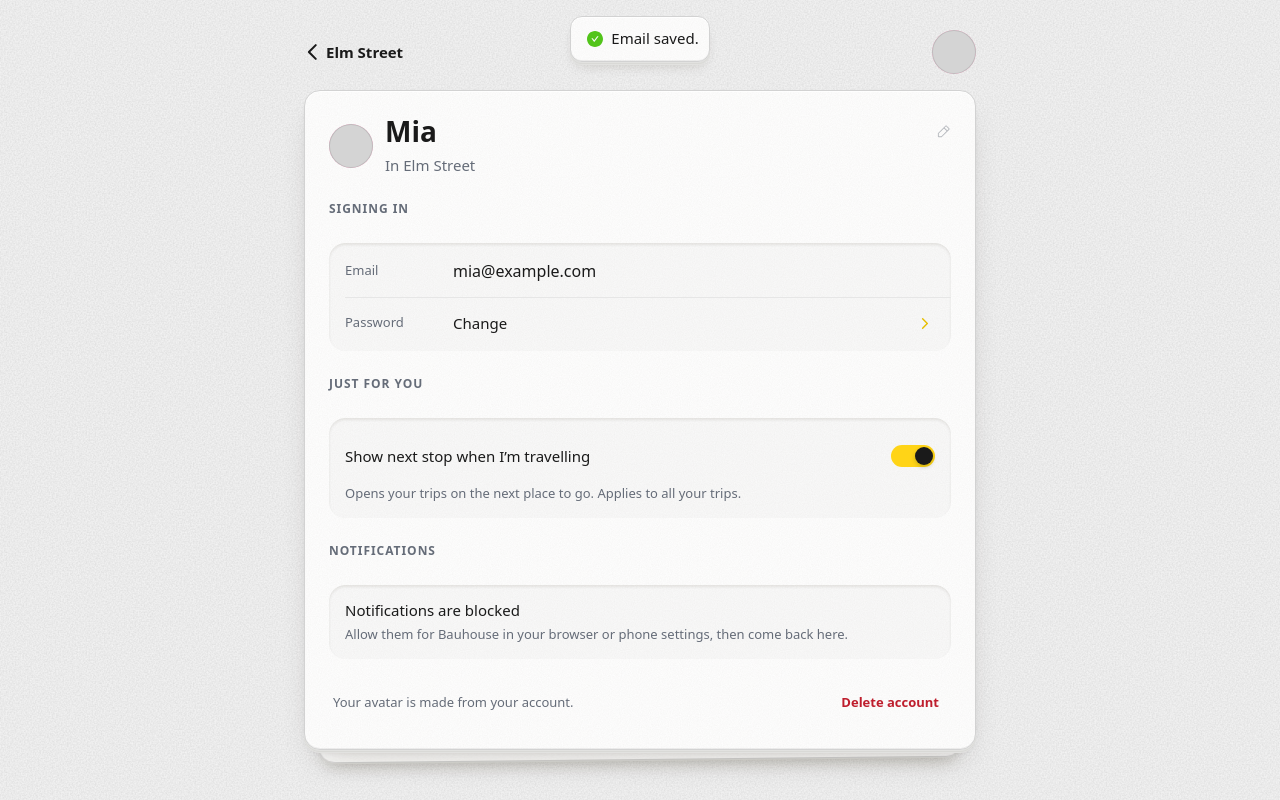
Test: Account settings › says when an email is taken
The width and height of the screenshot is (1280, 800).
Replace the text in the field named "Email" with "sam@example.com": (694, 271) [453,259,935,283]
Then press Enter
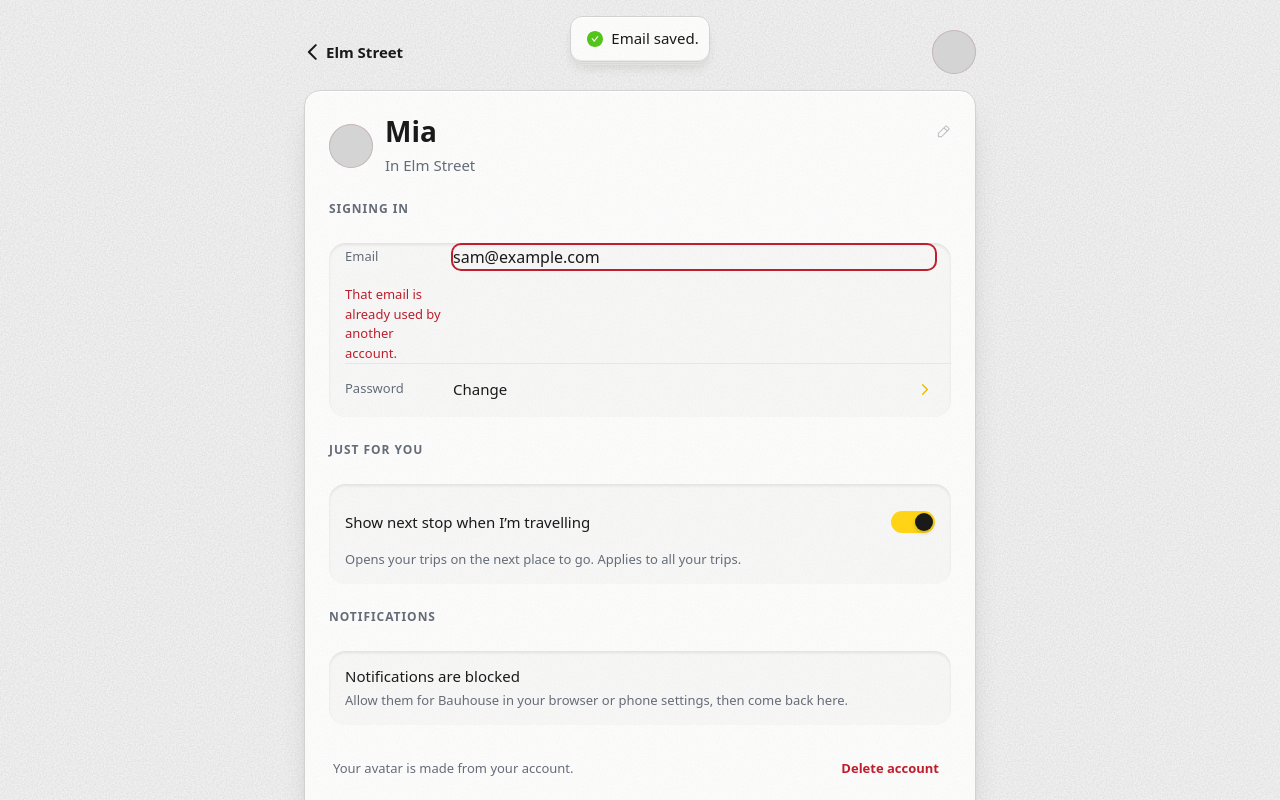
Now the message shows "already used", box [345,285,441,362]
